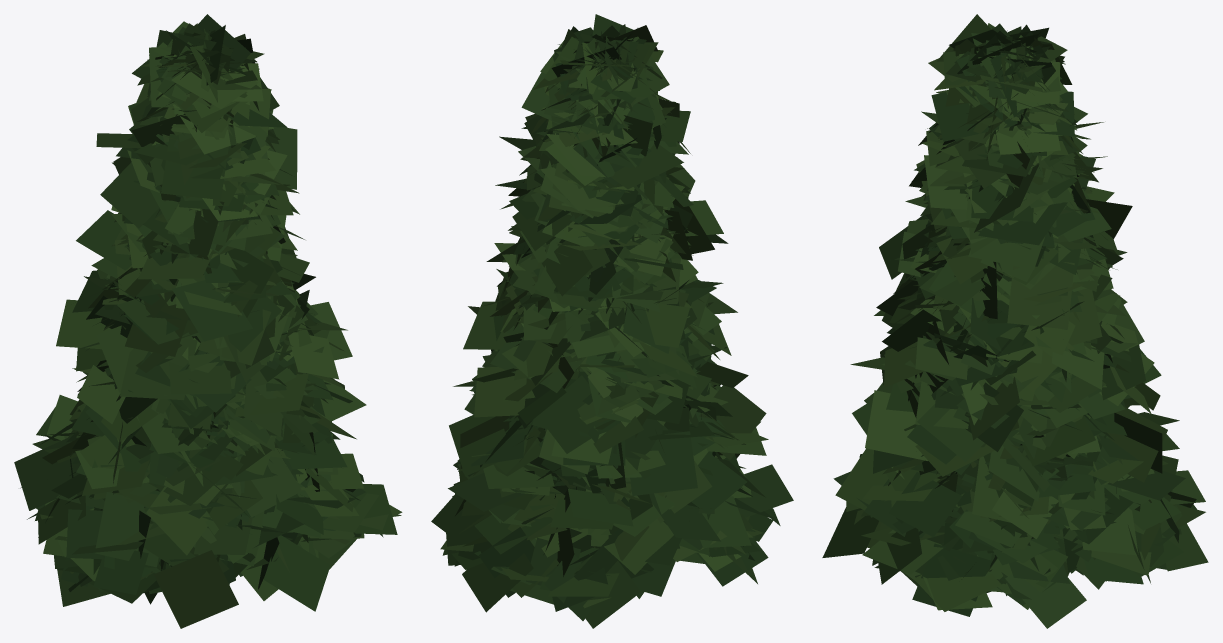
The model's file is PLN_Conifer_TallOld.fbx.
3 renders of one model, left to right at view 1: azimuth 30°, elevation 25°; view 2: azimuth 150°, elevation 25°; view 3: azimuth 270°, elevation 25°, orthographic.
Parts seen in each view (by area): view 1: PLN_Conifer_TallOld; view 2: PLN_Conifer_TallOld; view 3: PLN_Conifer_TallOld.
Part boxes in pixels (x1=…): PLN_Conifer_TallOld: x1=14, y1=14, x2=402, y2=628; PLN_Conifer_TallOld: x1=431, y1=14, x2=793, y2=628; PLN_Conifer_TallOld: x1=822, y1=14, x2=1208, y2=628.
Bounding box in the file's own units: 9.48 × 14.82 × 9.58.
